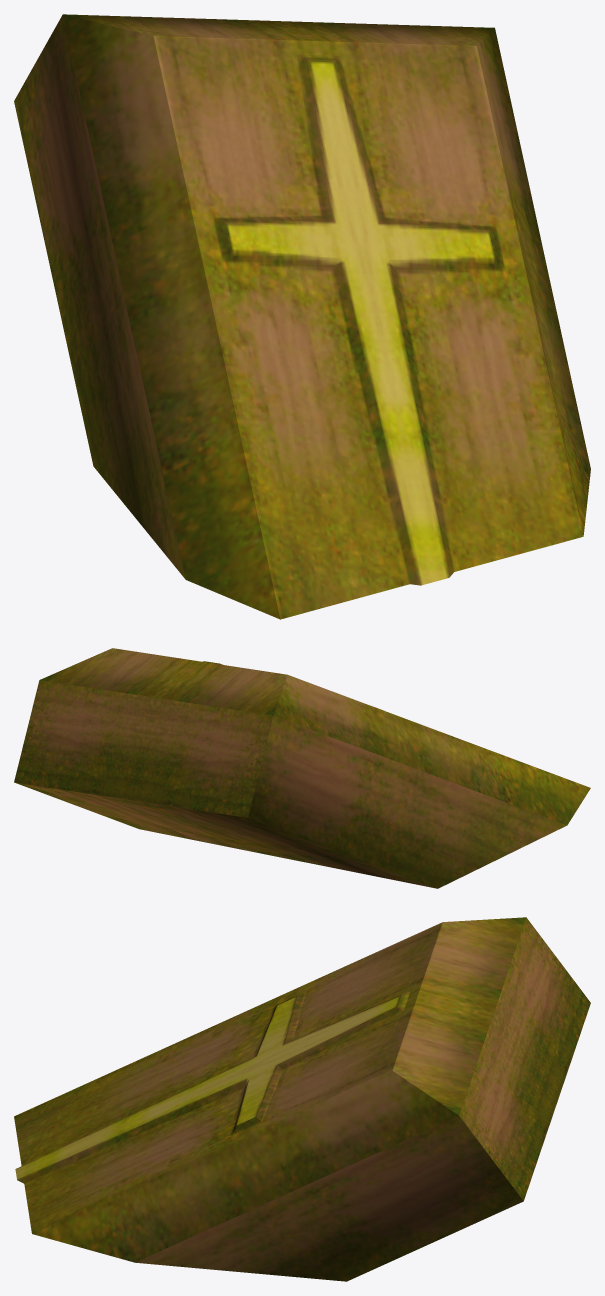
The model's file is a_SWCtomb08.glb.
The picture shows the model from 3 angles, top to bottom: view 1: azimuth 30°, elevation 25°; view 2: azimuth 150°, elevation 25°; view 3: azimuth 270°, elevation 25°; orthographic projection. The views are drawn at different scales.
Visible parts, largest first — view 1: a_SWCtomb08; view 2: a_SWCtomb08; view 3: a_SWCtomb08.
Boxes of the visible parts, x1=… form: a_SWCtomb08: x1=14, y1=14, x2=590, y2=619; a_SWCtomb08: x1=14, y1=648, x2=590, y2=888; a_SWCtomb08: x1=14, y1=917, x2=590, y2=1281.
Size of the model in its own units: 1.27 by 0.7659 by 1.56.
1 material, 1 textured.
